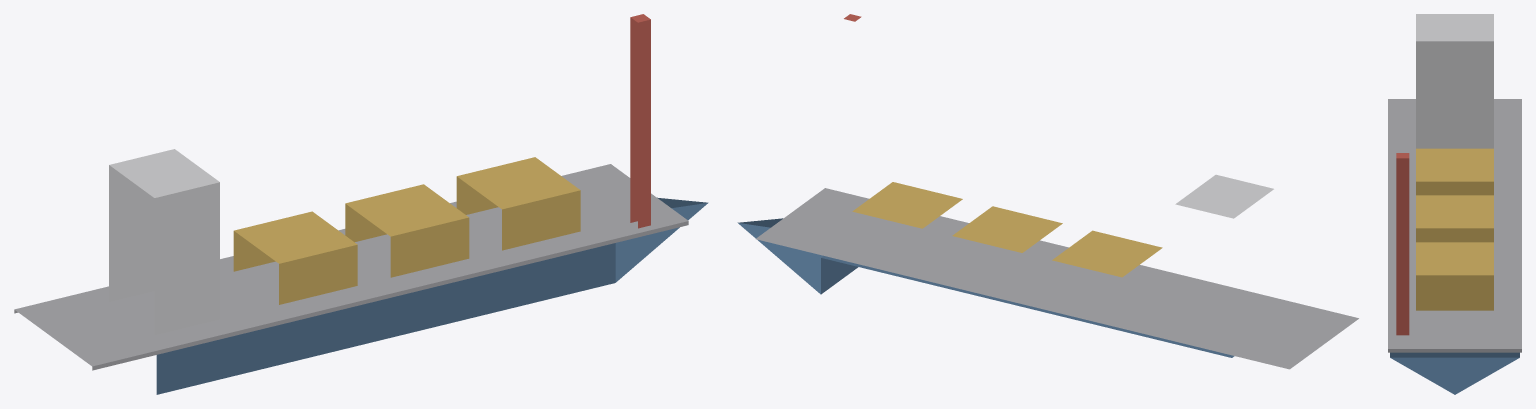
The model's file is ship_sample.gltf.
3 renders of one model, left to right at view 1: azimuth 30°, elevation 25°; view 2: azimuth 150°, elevation 25°; view 3: azimuth 270°, elevation 25°, orthographic. The views are drawn at different scales.
Visible parts, largest first — view 1: deck, hull_main, accommodation, topside_module_1, topside_module_2, topside_module_3, flare_tower, hull_bow; view 2: deck, topside_module_2, topside_module_1, topside_module_3, hull_bow, accommodation, hull_main; view 3: deck, accommodation, topside_module_3, topside_module_1, topside_module_2, flare_tower, hull_bow, hull_main.
Boxes of the visible parts, x1,y1,x2,y2 form: deck: (14, 164, 688, 370); hull_main: (156, 243, 615, 394); accommodation: (109, 149, 219, 335); topside_module_1: (233, 211, 357, 304); topside_module_2: (345, 184, 469, 277); topside_module_3: (456, 157, 580, 250); flare_tower: (630, 14, 650, 228); hull_bow: (615, 197, 708, 282); deck: (756, 188, 1358, 369); topside_module_2: (952, 206, 1062, 252); topside_module_1: (1052, 230, 1162, 277); topside_module_3: (852, 182, 962, 228); hull_bow: (737, 218, 858, 294); accommodation: (1175, 174, 1273, 218); hull_main: (821, 256, 1234, 357); deck: (1388, 99, 1521, 352); accommodation: (1416, 14, 1493, 148); topside_module_3: (1416, 242, 1493, 310); topside_module_1: (1416, 148, 1493, 195); topside_module_2: (1416, 195, 1493, 242); flare_tower: (1396, 153, 1409, 335); hull_bow: (1390, 357, 1519, 394); hull_main: (1390, 352, 1519, 357).
Size of the model in its own units: 100 by 36.6 by 20.6.
